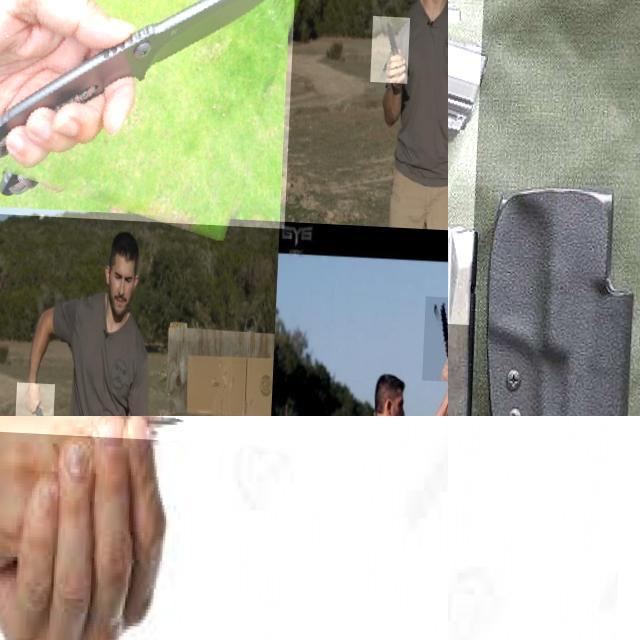-: (0, 0, 299, 225), (372, 11, 412, 79), (426, 290, 448, 376), (19, 381, 59, 416)
gun-knife-thesis - v11 Yolov5 augmented: (0, 416, 409, 579), (448, 0, 636, 320)
